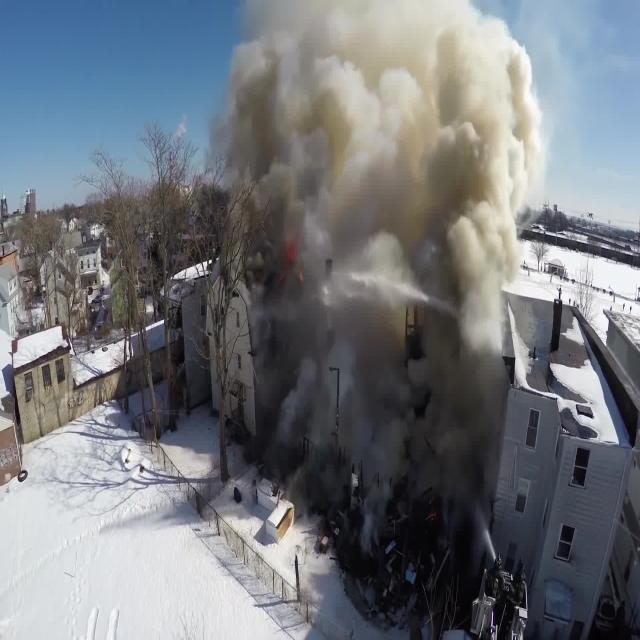smoke: (250, 0, 494, 433)
